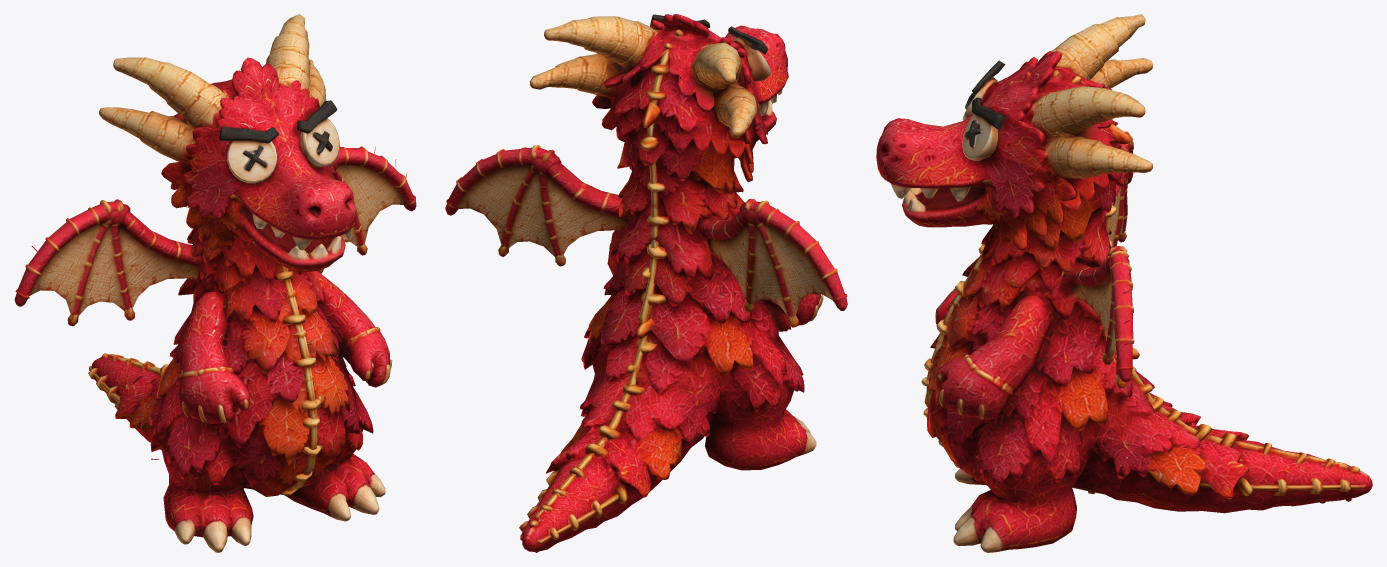
Rendered from dragon.glb.
3 renders of one model, left to right at view 1: azimuth 30°, elevation 25°; view 2: azimuth 150°, elevation 25°; view 3: azimuth 270°, elevation 25°, orthographic. The views are drawn at different scales.
Visible parts, largest first — view 1: d75877fb_ef0b_4f80_b583_44956a7812bb; view 2: d75877fb_ef0b_4f80_b583_44956a7812bb; view 3: d75877fb_ef0b_4f80_b583_44956a7812bb.
Boxes of the visible parts, <box> form: d75877fb_ef0b_4f80_b583_44956a7812bb: <box>14,14,416,552</box>; d75877fb_ef0b_4f80_b583_44956a7812bb: <box>445,14,847,552</box>; d75877fb_ef0b_4f80_b583_44956a7812bb: <box>876,14,1372,552</box>.
Bounding box in the file's own units: 0.9468 × 0.9995 × 0.9849.
Materials: 1 (1 with a texture image).
